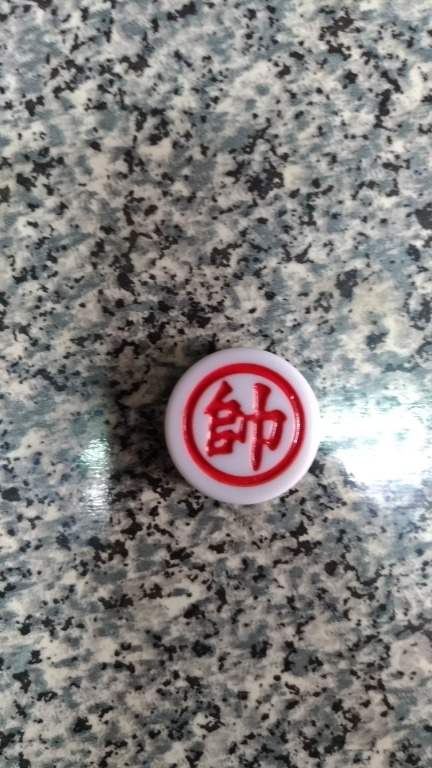r-king: (156, 338, 335, 514)
